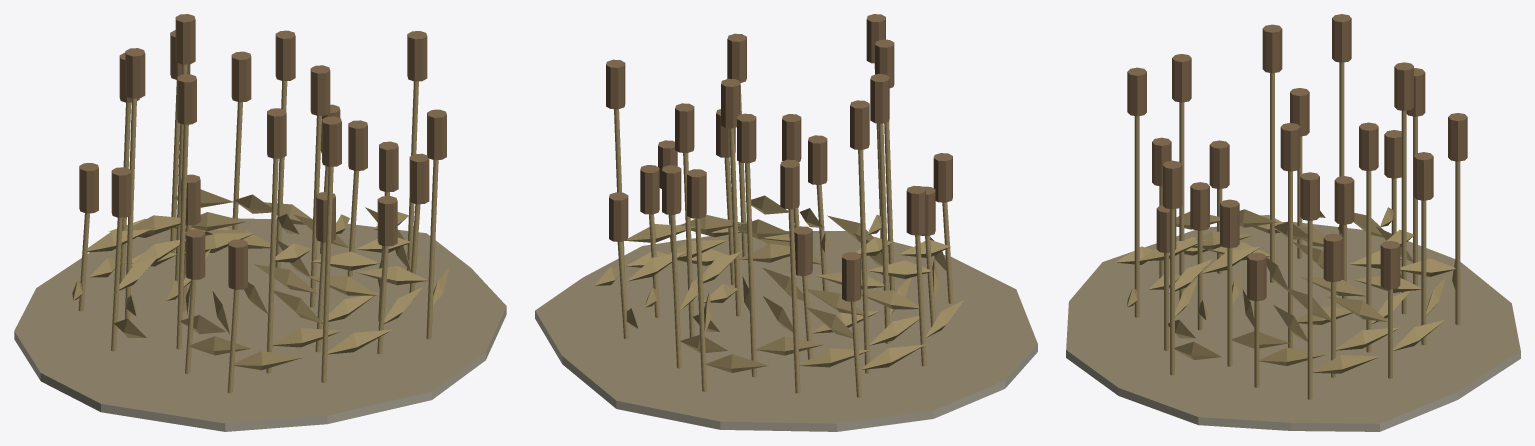
Rendered from Reed_Bed_Withered.glb.
The picture shows the model from 3 angles, left to right: view 1: azimuth 30°, elevation 25°; view 2: azimuth 150°, elevation 25°; view 3: azimuth 270°, elevation 25°; orthographic projection. The views are drawn at different scales.
Visible parts, largest first — view 1: Support, Growth; view 2: Support, Growth; view 3: Support, Growth.
Part boxes in pixels (x1,y1,x2,y2): Support: (14,218,506,431); Growth: (72,14,448,393); Support: (535,231,1037,431); Growth: (595,14,963,397); Support: (1066,221,1520,431); Growth: (1115,14,1467,399).
Bounding box in the file's own units: 2.68 × 1.65 × 2.54.
